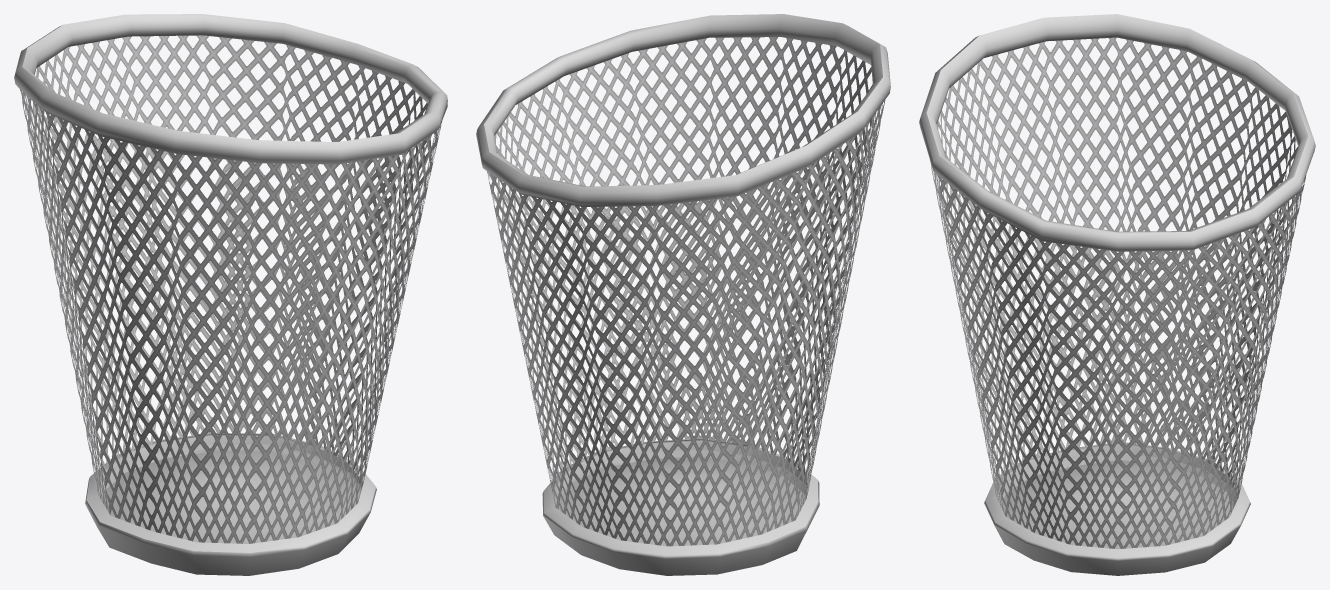
File: SM_Trash_Bin.fbx
3 views of the same model, side by side, from view 1: azimuth 30°, elevation 25°; view 2: azimuth 150°, elevation 25°; view 3: azimuth 270°, elevation 25° (orthographic). The views are drawn at different scales.
Visible parts, largest first — view 1: SM_Trash_Bin; view 2: SM_Trash_Bin; view 3: SM_Trash_Bin.
Boxes of the visible parts, x1,y1,x2,y2 form: SM_Trash_Bin: (14,14,447,575); SM_Trash_Bin: (476,14,890,575); SM_Trash_Bin: (919,14,1315,575).
Bounding box in the file's own units: 41.46 × 49.83 × 41.46.
1 material, 1 textured.
